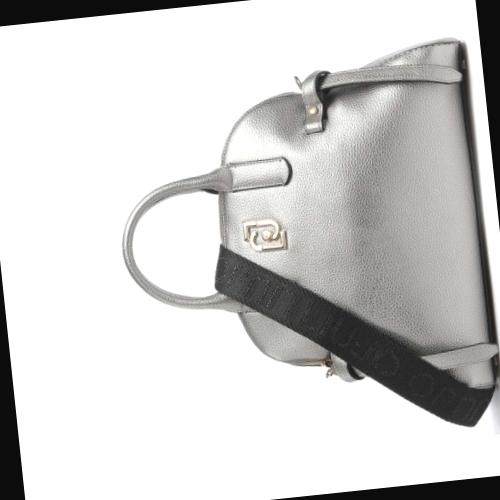LIU-JO: (241, 216, 288, 252)
